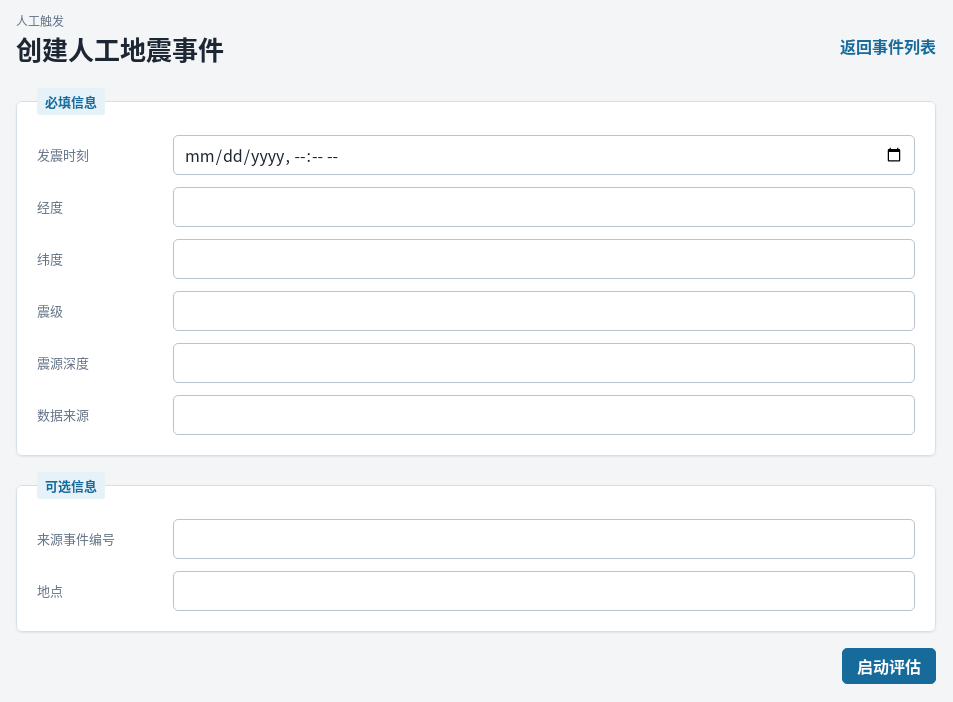
Test: maps status 401 to a clear submission error
The image size is (953, 702).
Type "2026-09-17T10:30" into the field labelled "发震时刻".
click(544, 154); type("2026-09-17T10:30")  # box [173,134,915,174]
Type "121.54" into the number field labelled "经度".
click(544, 206); type("121.54")  # box [173,186,915,226]
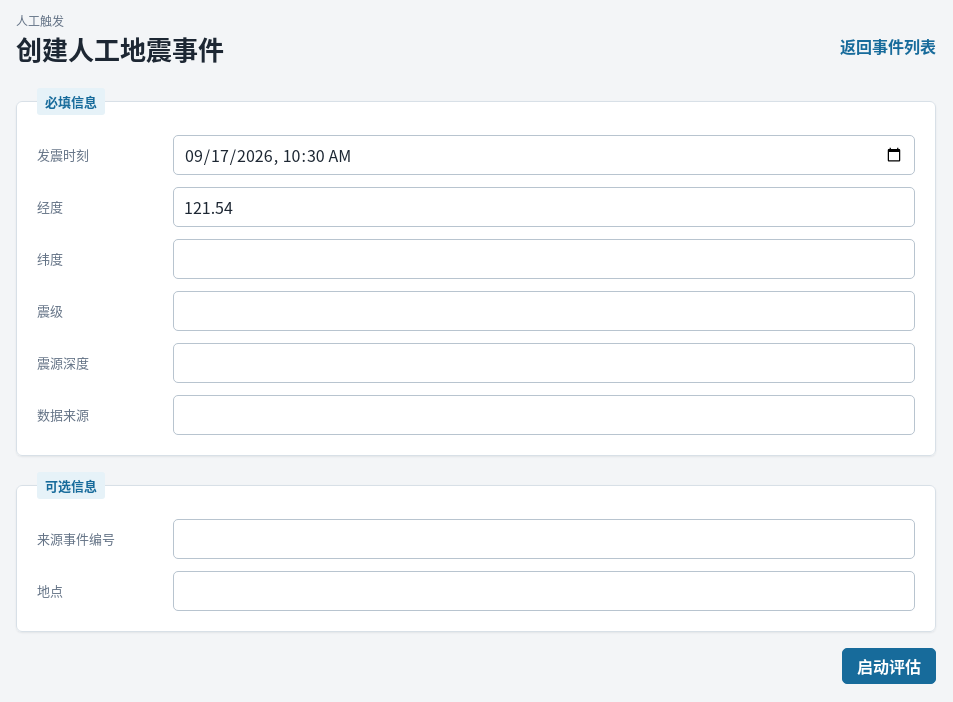
Type "31.22" into the number field labelled "纬度".
click(544, 258); type("31.22")  # box [173,238,915,278]
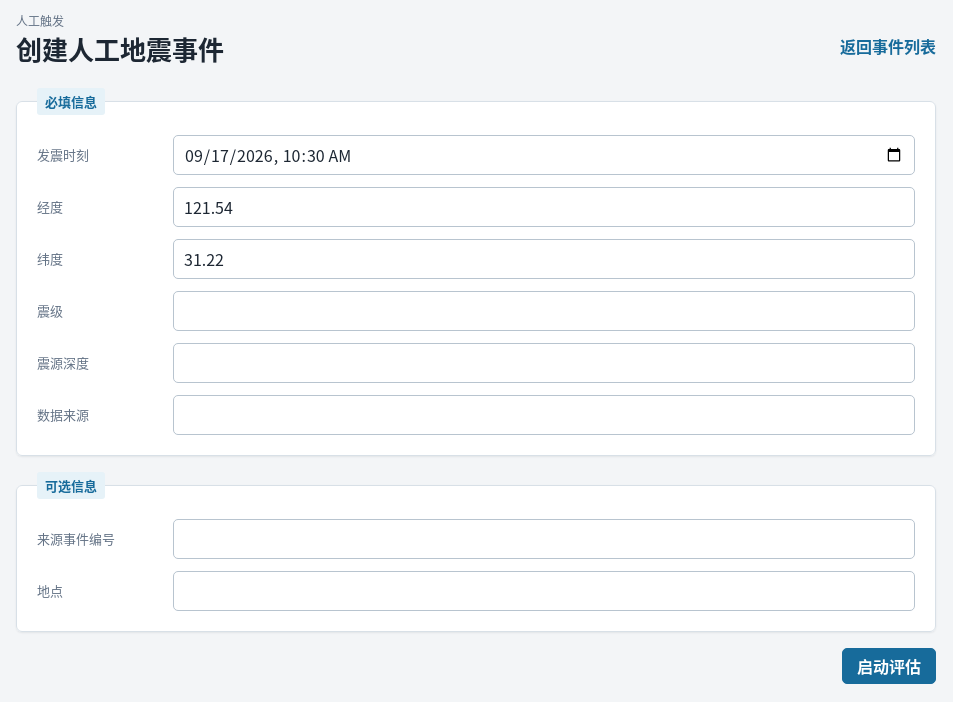
Type "3.2" into the number field labelled "震级".
click(544, 310); type("3.2")  # box [173,290,915,330]
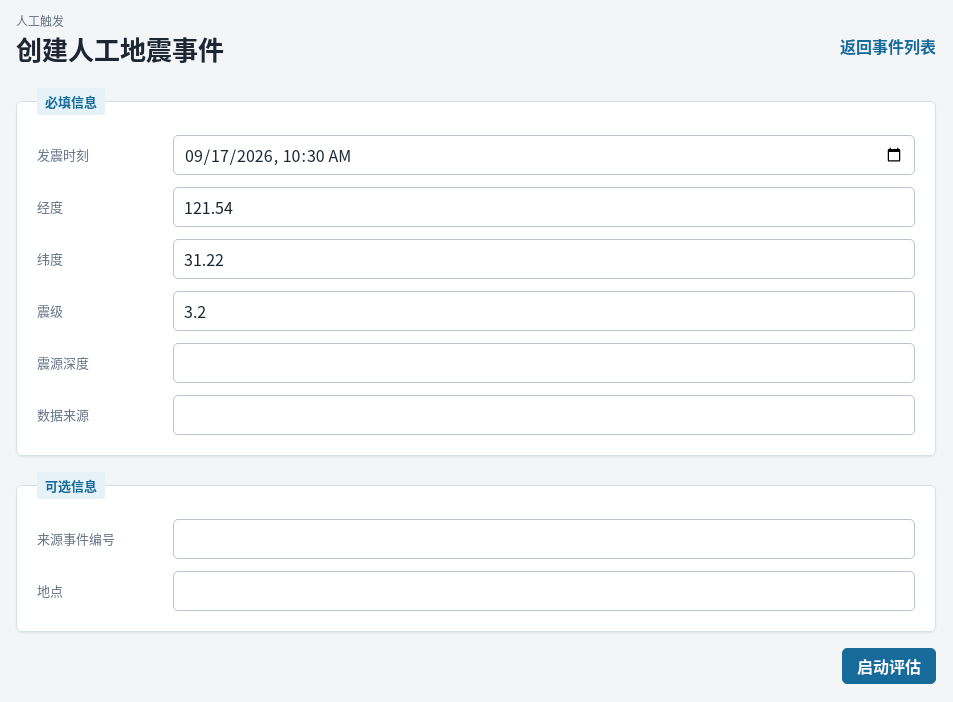
Type "8" into the number field labelled "震源深度".
click(544, 362); type("8")  # box [173,342,915,382]
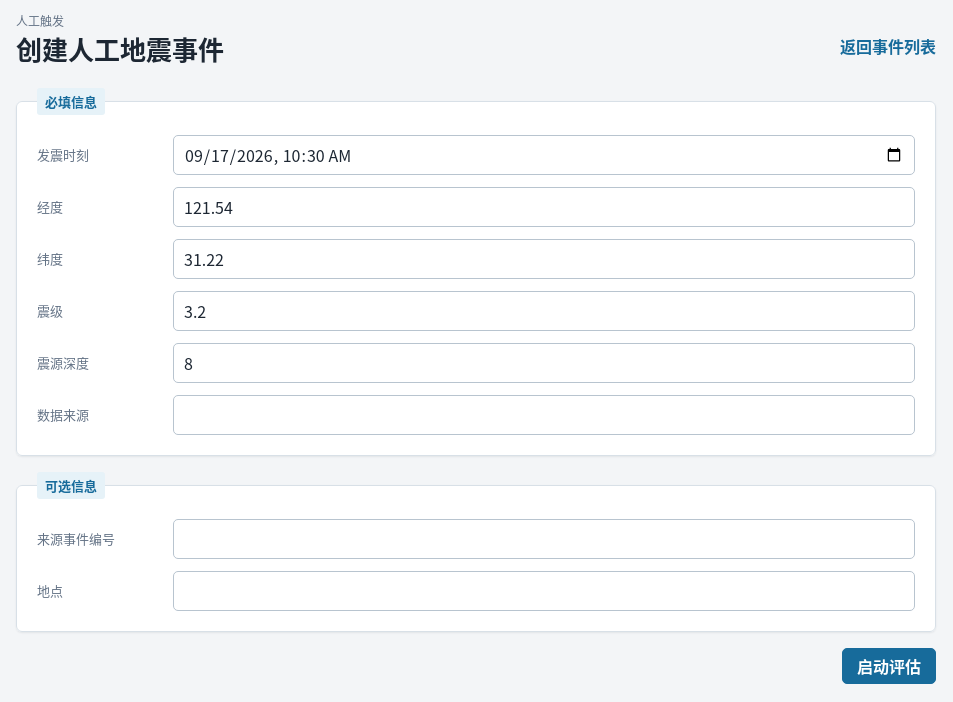
Type "shanghai-network" into the field labelled "数据来源".
click(544, 414); type("shanghai-network")  # box [173,394,915,434]
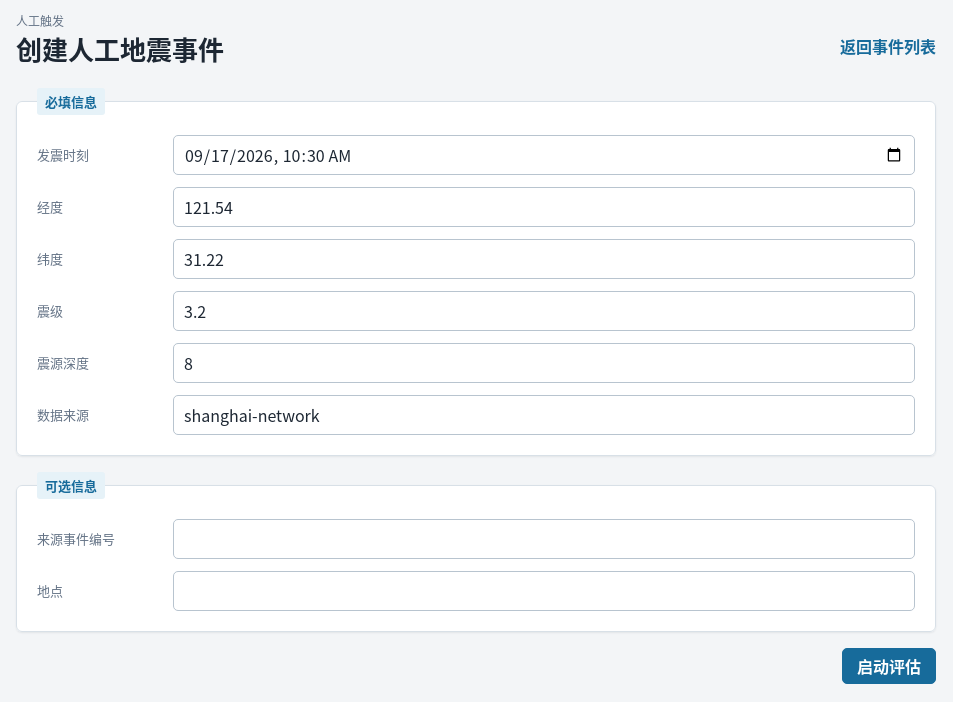
Click the button "启动评估".
click(889, 666)  # box [842,648,936,684]
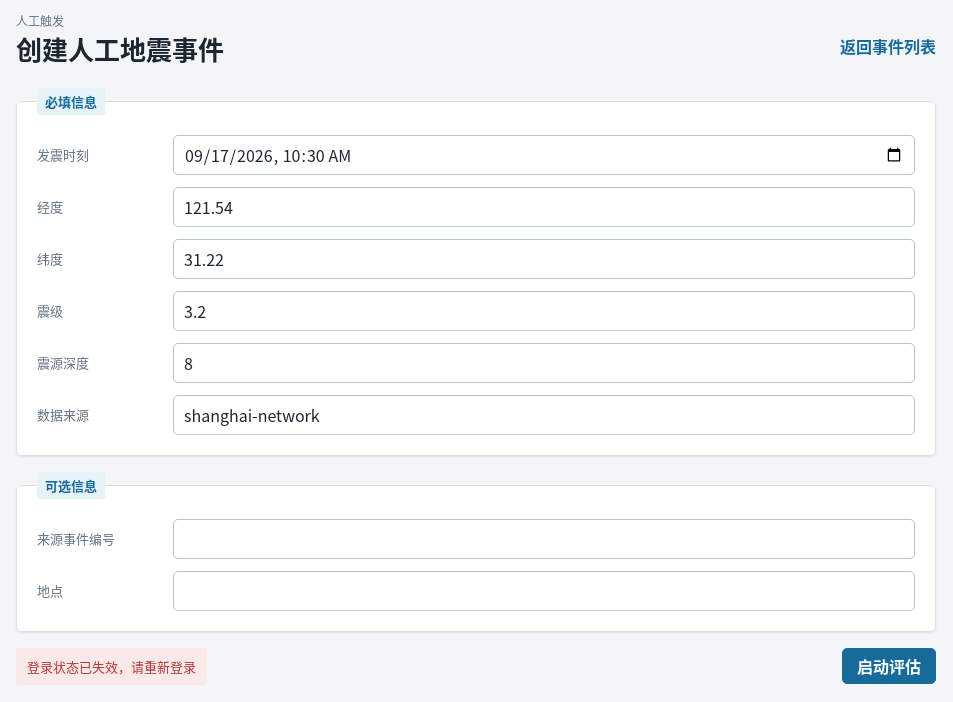
Expected: the text "登录状态已失效，请重新登录" is shown, [16,648,207,684]
